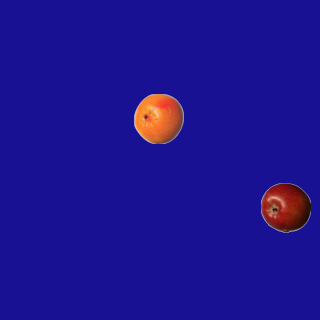Apple Braeburn: (260, 182, 310, 232)
Grapefruit Pink: (133, 93, 183, 143)
